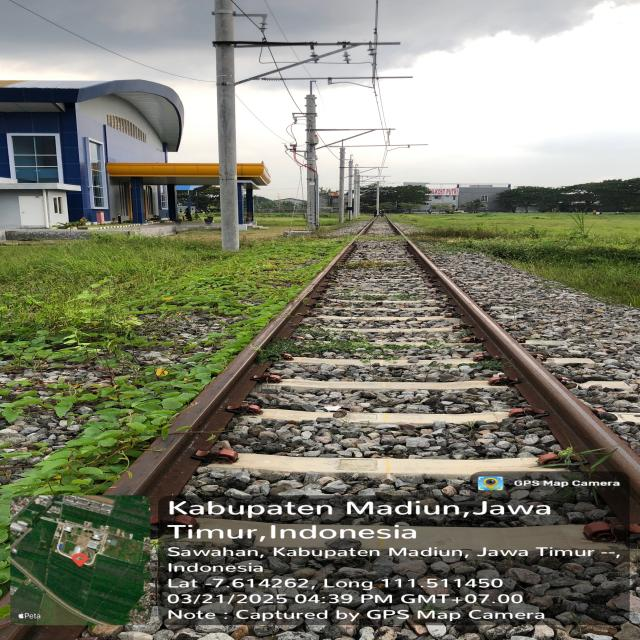rail-detection: (108, 241, 354, 514), (407, 240, 640, 527)
